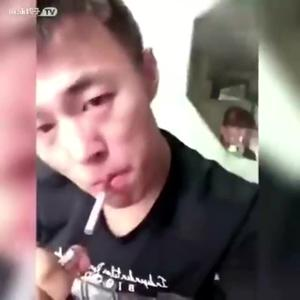cigarette: (81, 179, 114, 237)
